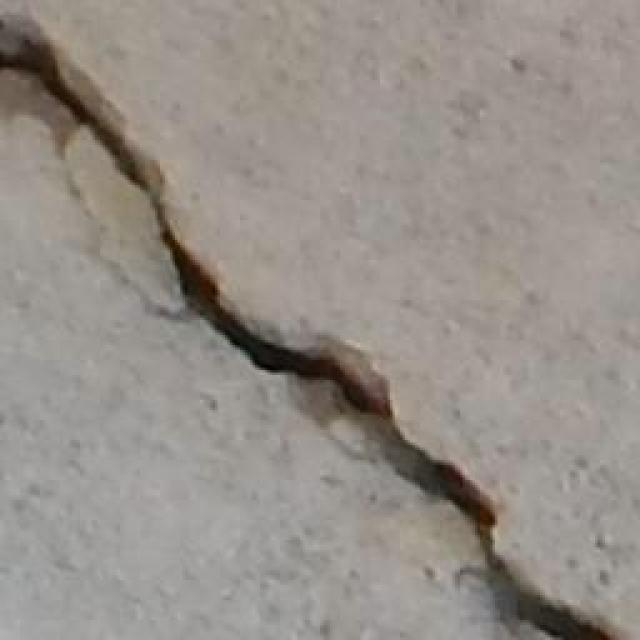concrete-crack: (0, 13, 629, 640)
